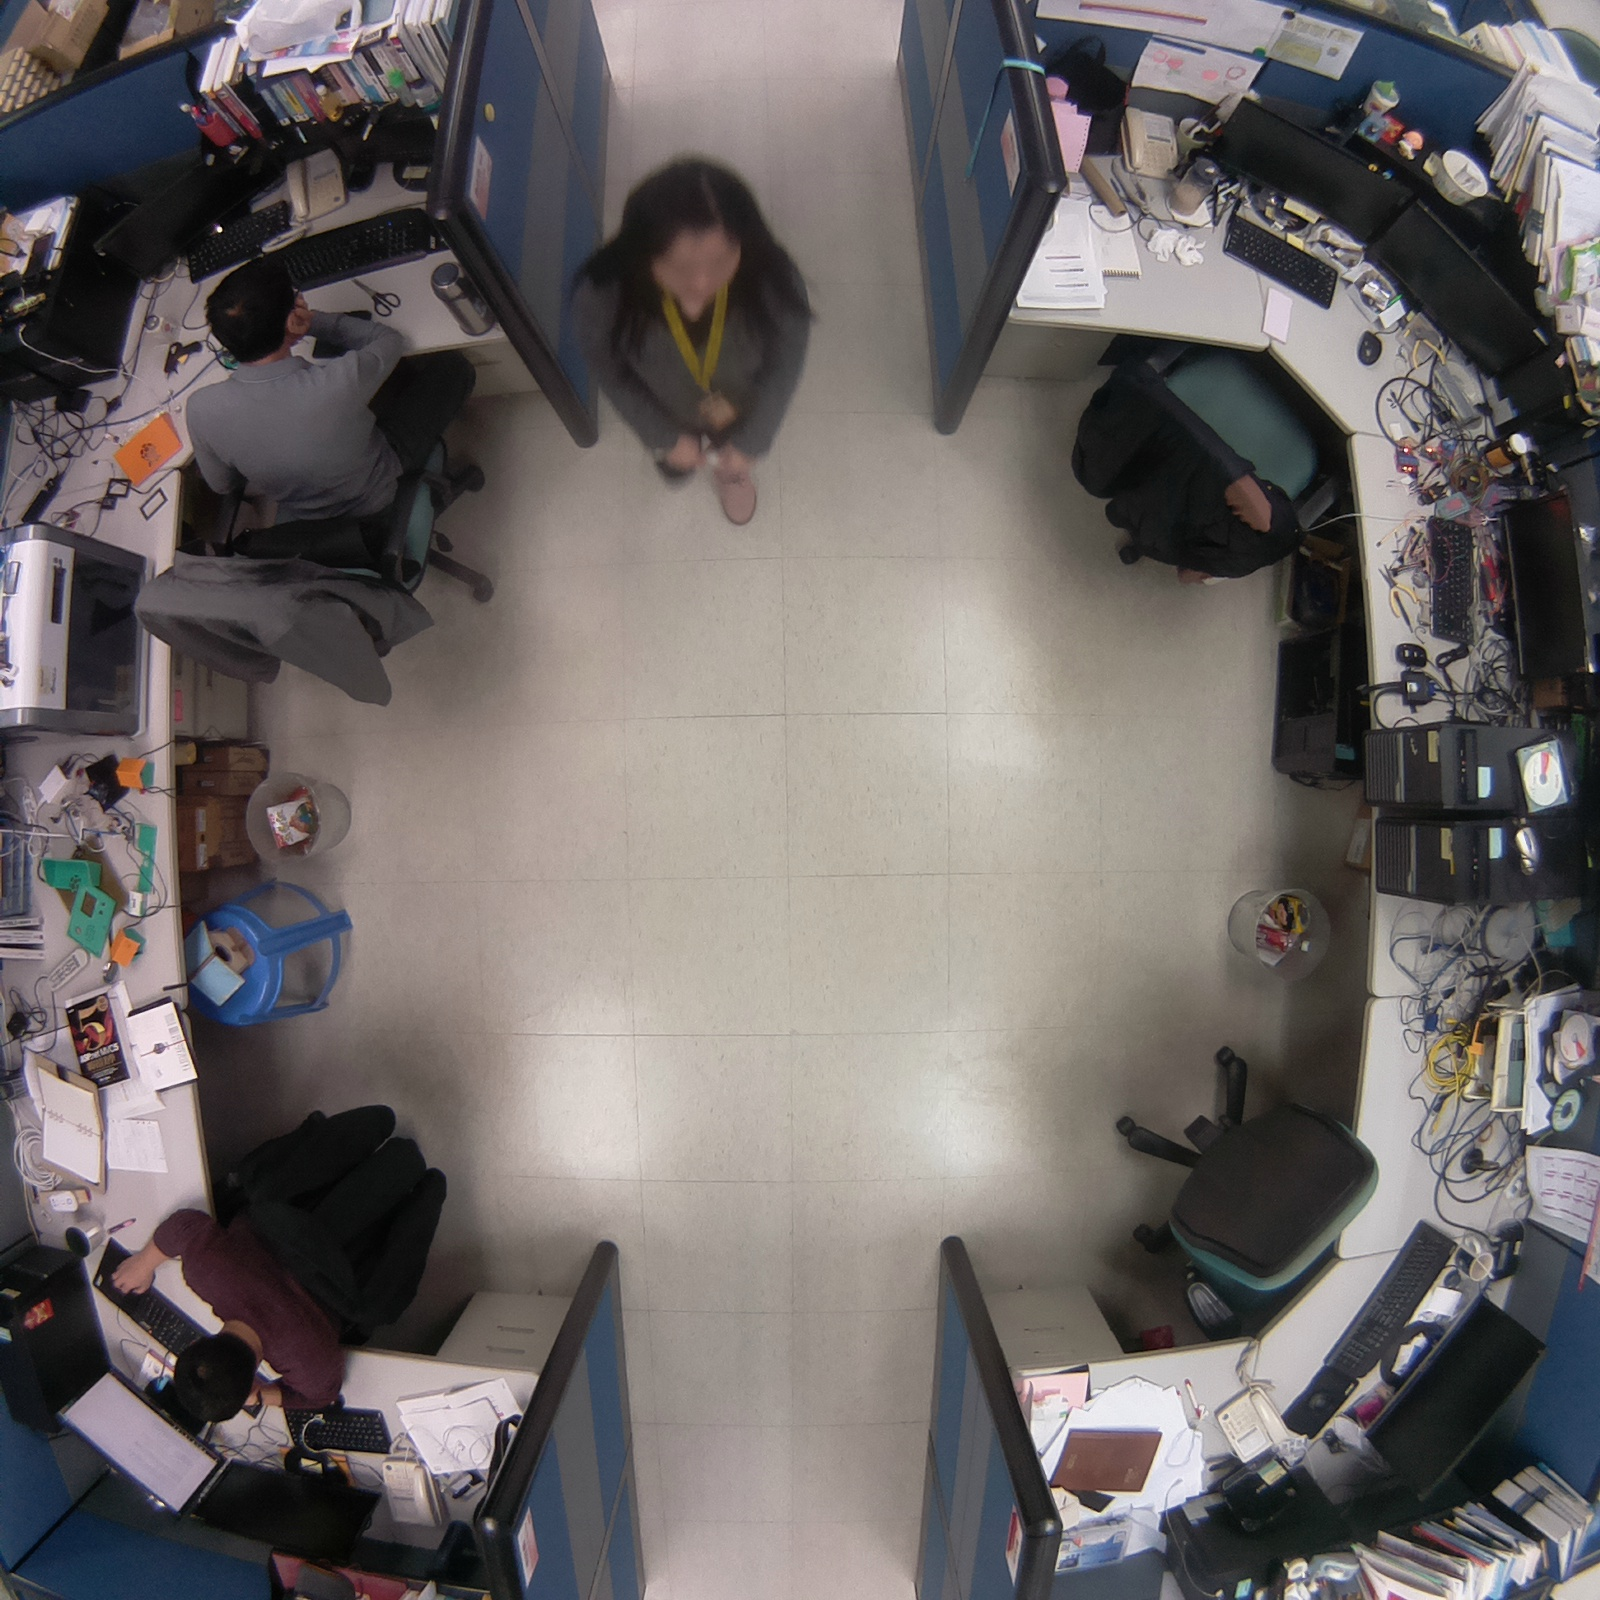chair: (1078, 1032, 1388, 1358), (1047, 329, 1360, 593)
head: (593, 148, 785, 323), (166, 1314, 268, 1434), (202, 255, 308, 365)
sitting: (124, 252, 514, 727), (101, 1070, 486, 1442)
walking: (535, 152, 835, 558)
